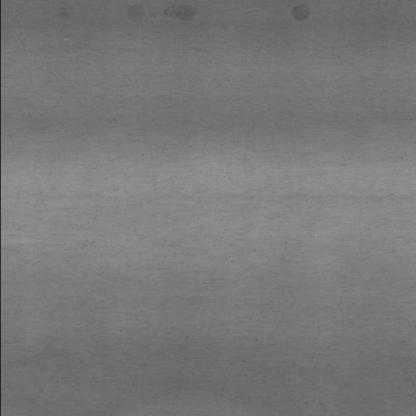oil_spot: (121, 0, 196, 25), (286, 1, 311, 23)
